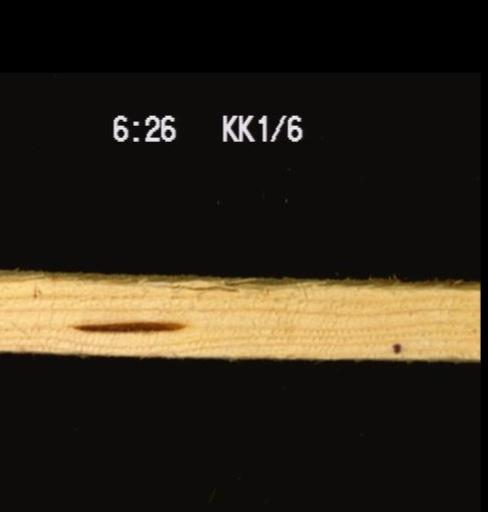split: (147, 280, 241, 293)
